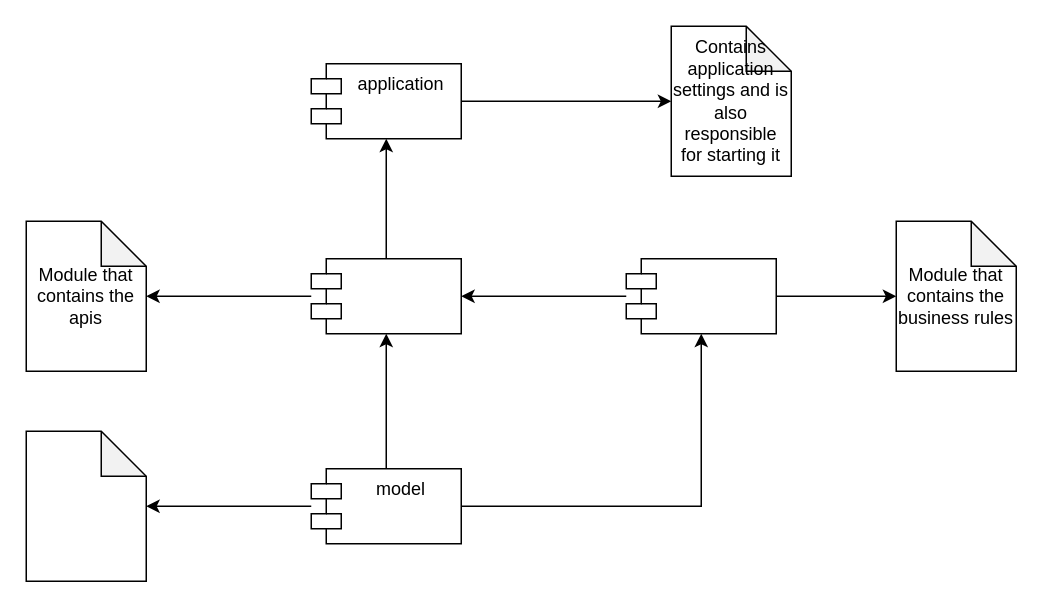
The diagram is 1043 pixels wide and 608 high, and some of its shapes have lost their labels. Each missing label, with the centre of its shape:
"http-server" goes at point 385,295.
"Module that contains the entities" goes at point 85,505.
"use-case" goes at point 700,295.
